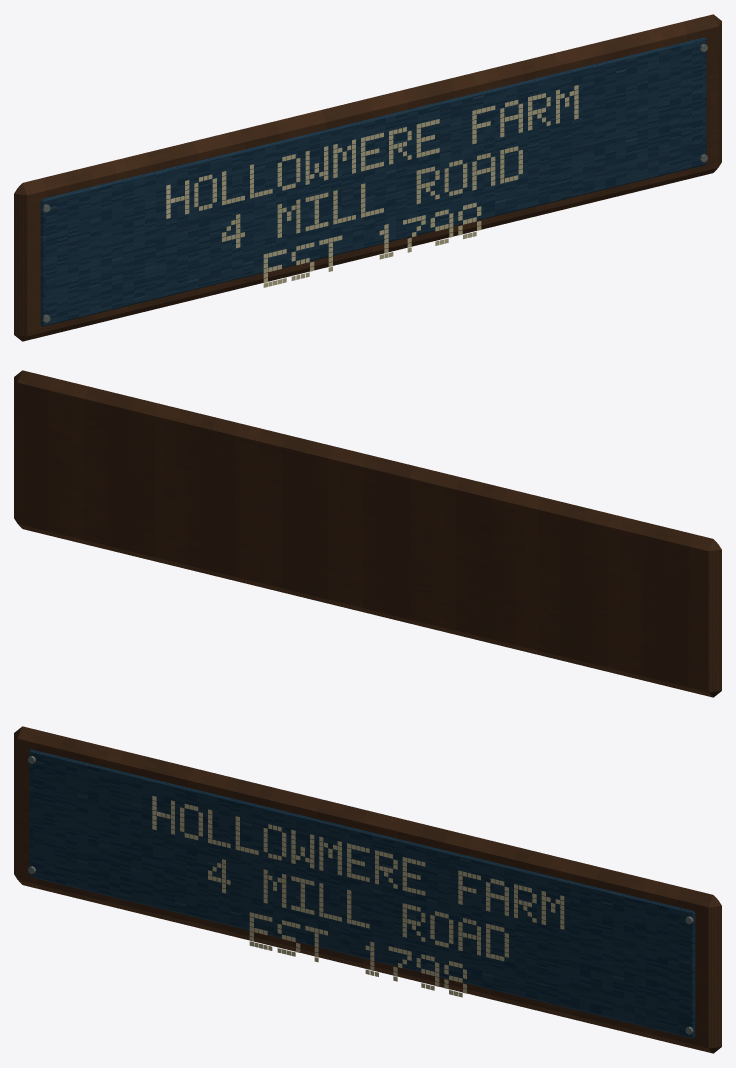
The model's file is level_sign_farmhouse.glb.
The picture shows the model from 3 angles, top to bottom: view 1: azimuth 30°, elevation 25°; view 2: azimuth 150°, elevation 25°; view 3: azimuth 330°, elevation 25°; orthographic projection.
Visible parts, largest first — view 1: level_sign_farmhouse; view 2: level_sign_farmhouse; view 3: level_sign_farmhouse.
Boxes of the visible parts, x1,y1,x2,y2 form: level_sign_farmhouse: [14, 14, 721, 341]; level_sign_farmhouse: [14, 370, 721, 697]; level_sign_farmhouse: [14, 726, 721, 1053].
Bounding box in the file's own units: 1.68 × 0.36 × 0.053.
4 materials, 4 textured.
